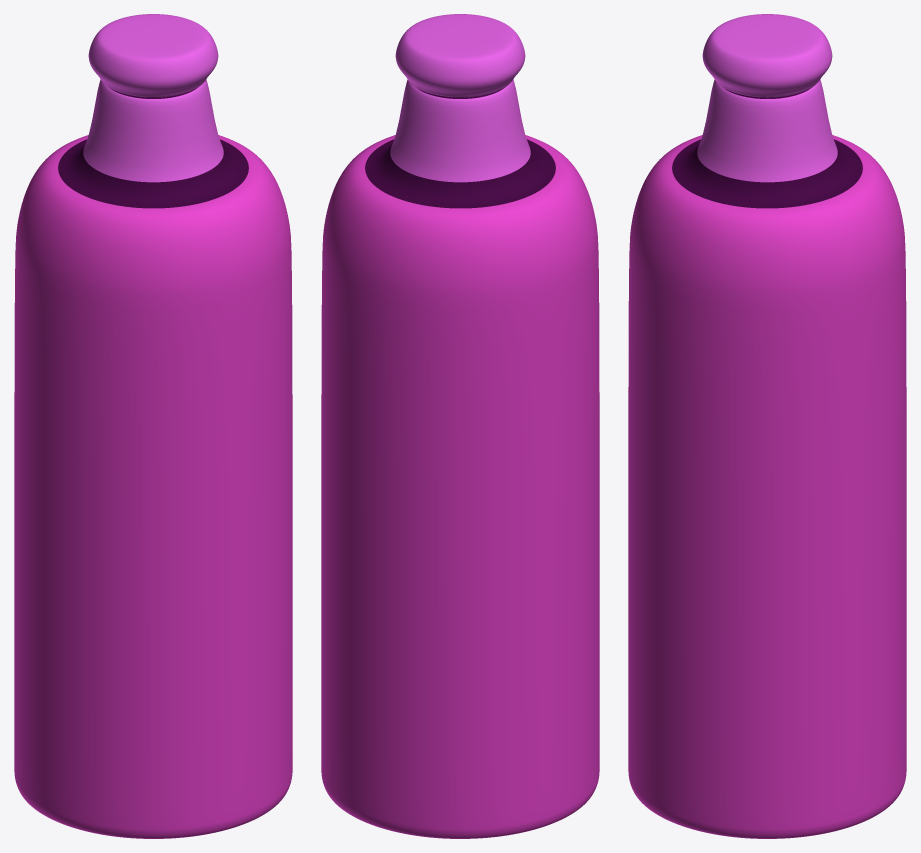
The model's file is PinkShampoo.fbx.
The picture shows the model from 3 angles, left to right: view 1: azimuth 30°, elevation 25°; view 2: azimuth 150°, elevation 25°; view 3: azimuth 270°, elevation 25°; orthographic projection.
Parts seen in each view (by area): view 1: Cylinder; view 2: Cylinder; view 3: Cylinder.
Boxes of the visible parts, left/top/right/bottom form: Cylinder: left=14, top=14, right=292, bottom=838; Cylinder: left=321, top=14, right=599, bottom=838; Cylinder: left=628, top=14, right=906, bottom=838.
Size of the model in its own units: 327 by 970 by 327.
